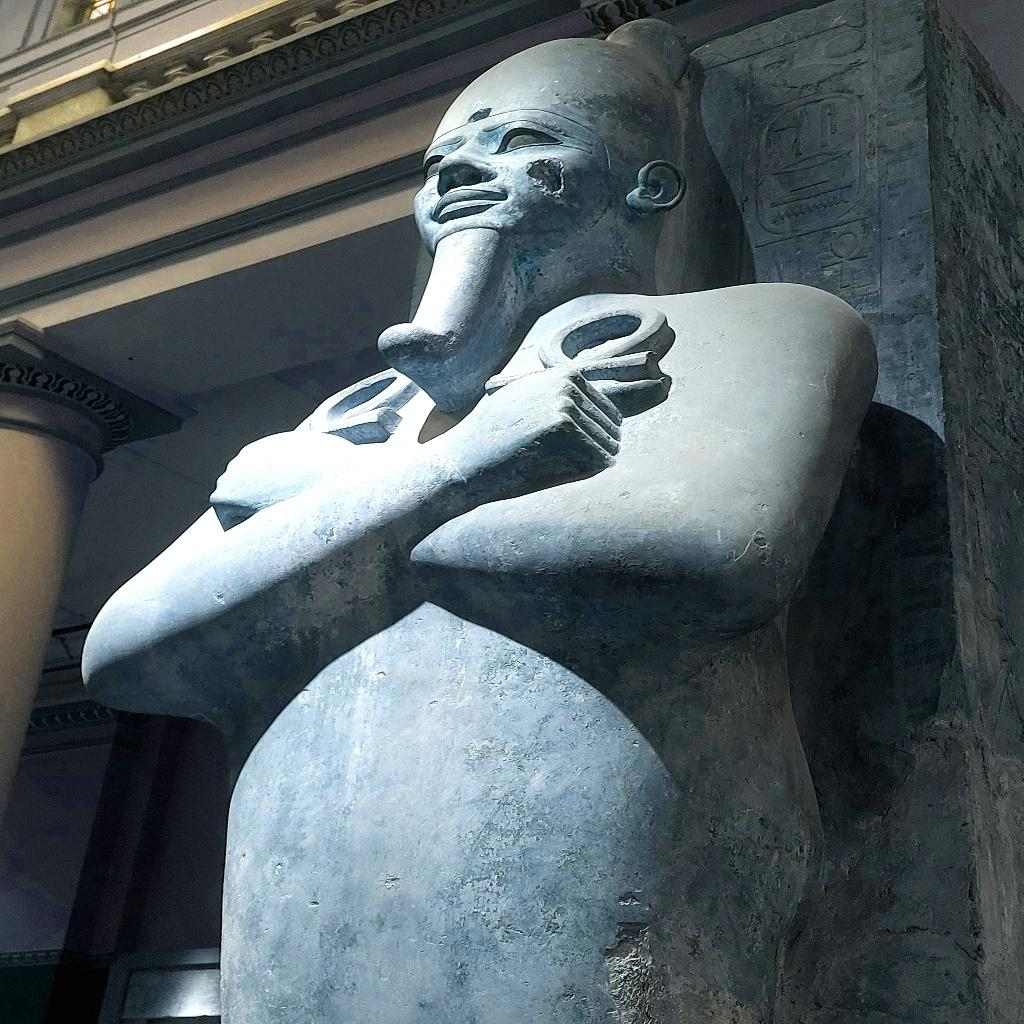Colossus of Senuseret I: (78, 18, 886, 1020)
